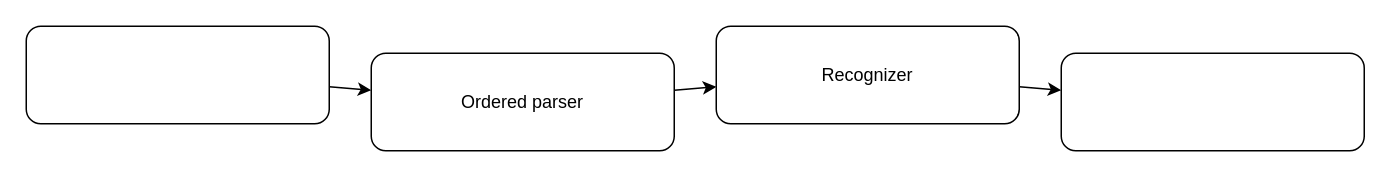
The diagram is 1391 pixels wide and 177 high, and some of its shapes have lost their labels. The shapes that lost their labels are listed below. From the top down, each one's centre as x and y in pixels, then its label:
At point 177,74: "Raw event".
At point 1212,101: "Event attributes".
